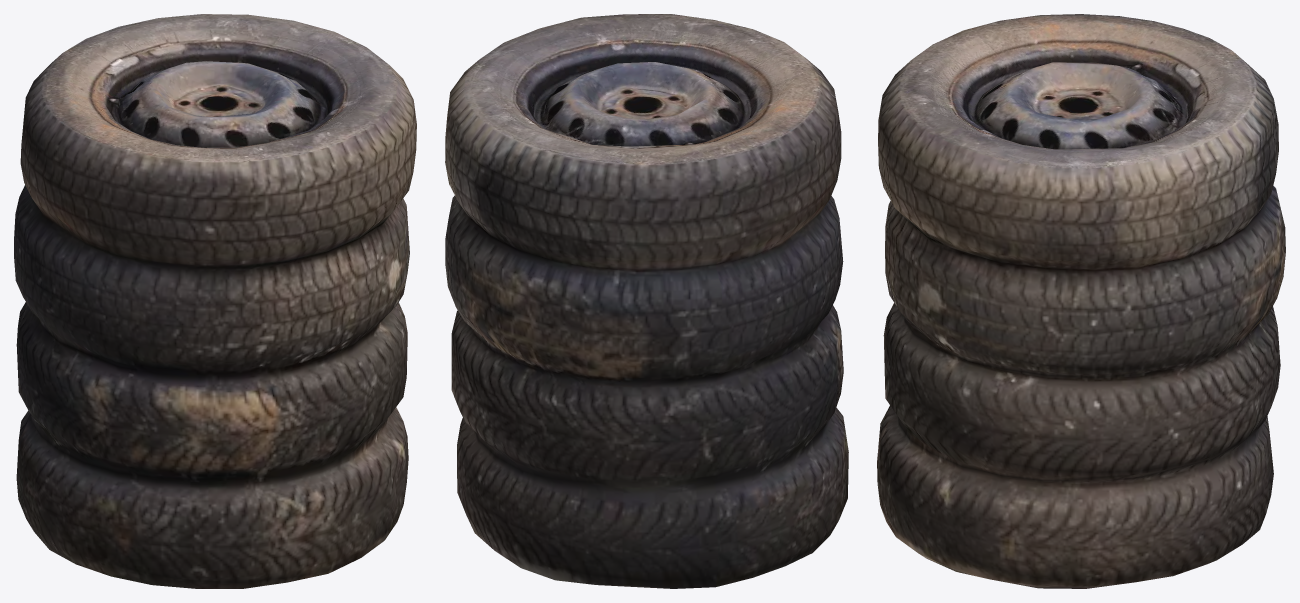
Rendered from tires.lod0.glb.
3 renders of one model, left to right at view 1: azimuth 30°, elevation 25°; view 2: azimuth 150°, elevation 25°; view 3: azimuth 270°, elevation 25°, orthographic.
Parts seen in each view (by area): view 1: Retopo_model to retopo_Material_0; view 2: Retopo_model to retopo_Material_0; view 3: Retopo_model to retopo_Material_0.
Boxes of the visible parts, box(x1,y1,x2,y2) form: Retopo_model to retopo_Material_0: box(14, 14, 416, 588); Retopo_model to retopo_Material_0: box(445, 14, 848, 588); Retopo_model to retopo_Material_0: box(877, 14, 1285, 588).
Size of the model in its own units: 1.26 by 1.47 by 1.26.
Materials: 1 (1 with a texture image).
